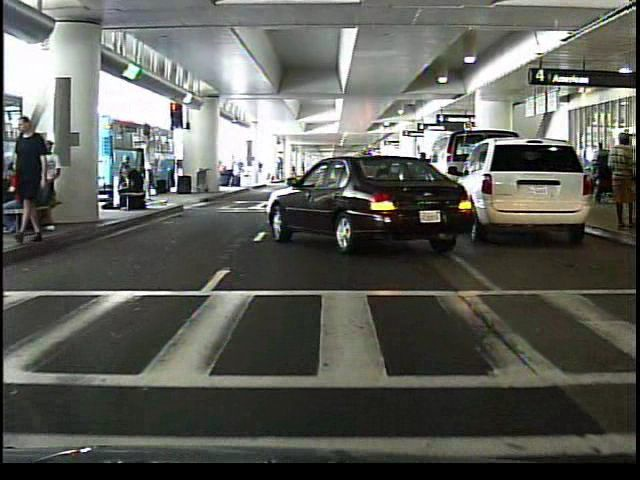person: (603, 131, 635, 232), (112, 161, 147, 213)
